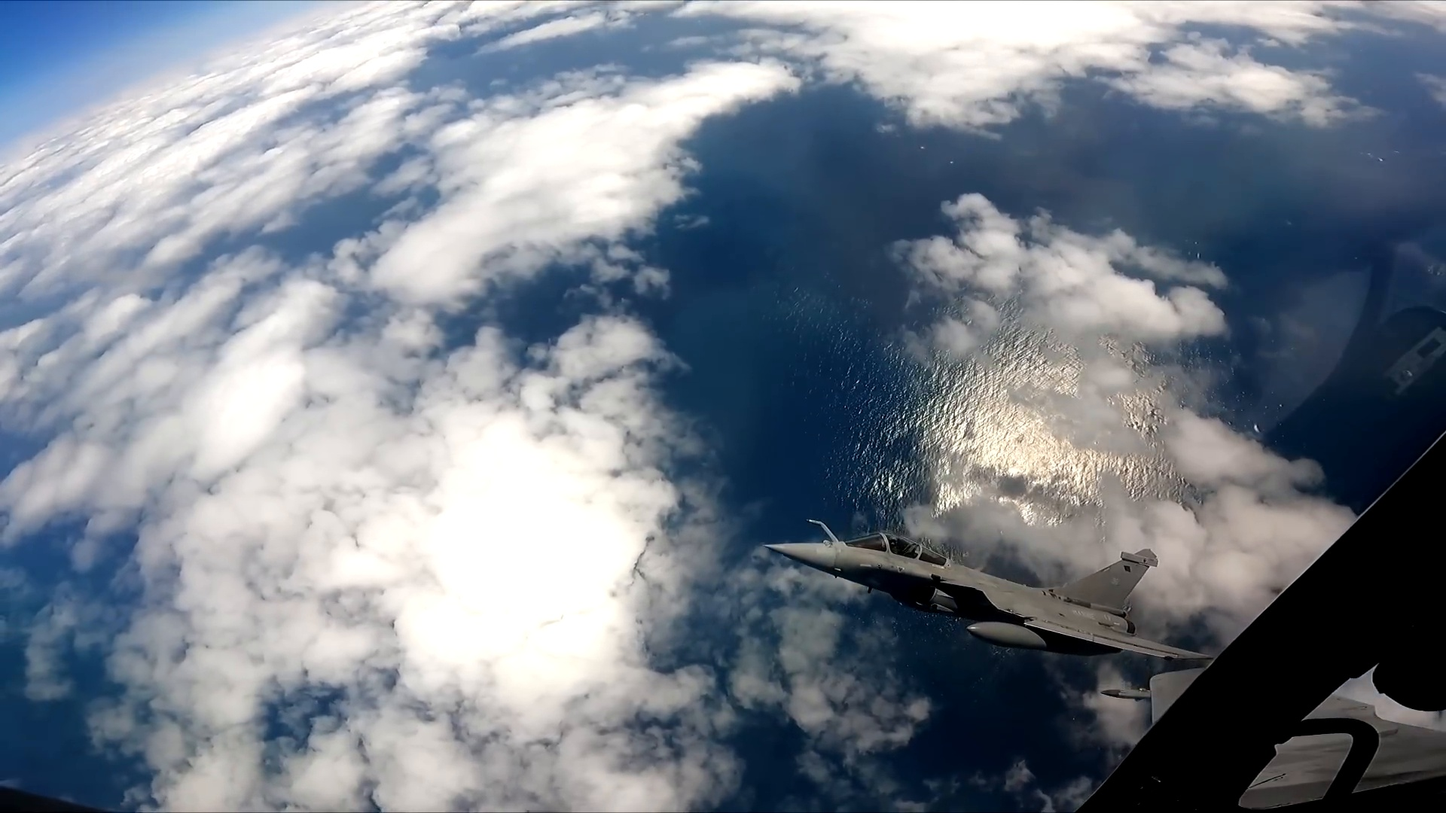Rafale: (761, 518, 1219, 660)
